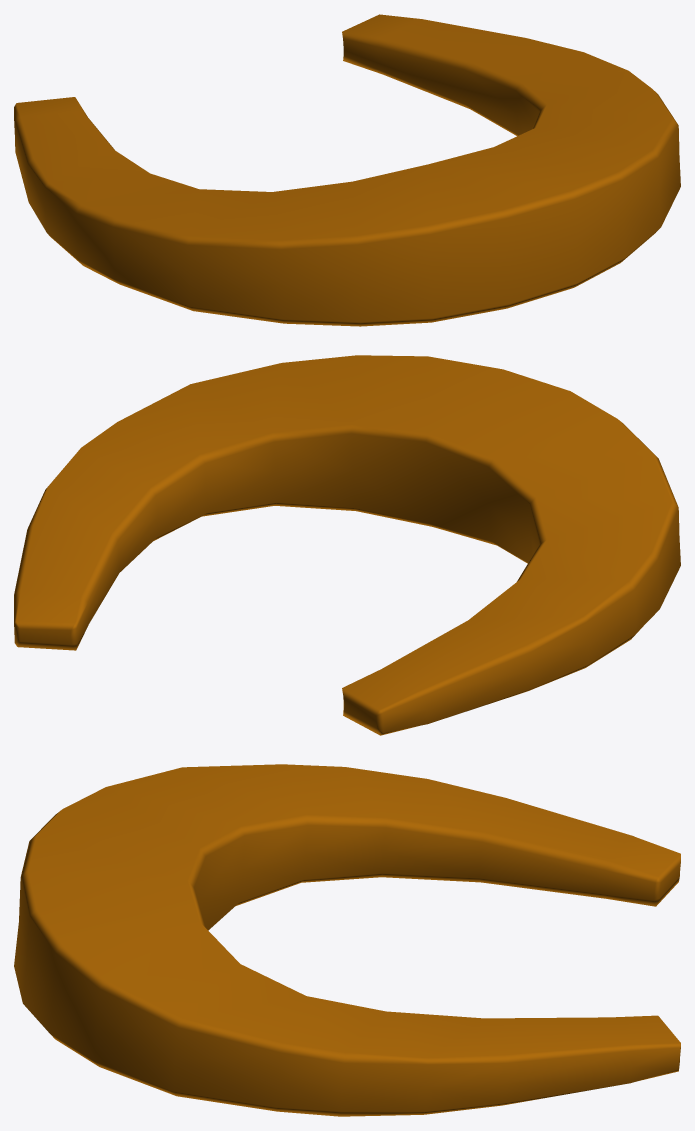
Rendered from Mod_horseshoe_LODs.fbx.
The picture shows the model from 3 angles, top to bottom: view 1: azimuth 30°, elevation 25°; view 2: azimuth 150°, elevation 25°; view 3: azimuth 270°, elevation 25°; orthographic projection. The views are drawn at different scales.
Parts seen in each view (by area): view 1: horseshoe_LP_LOD0; view 2: horseshoe_LP_LOD0; view 3: horseshoe_LP_LOD0.
Boxes of the visible parts, bbox=[...] form: horseshoe_LP_LOD0: bbox=[14, 14, 680, 326]; horseshoe_LP_LOD0: bbox=[14, 355, 680, 735]; horseshoe_LP_LOD0: bbox=[14, 764, 680, 1116].
Size of the model in its own units: 17.03 by 3.08 by 16.47.
